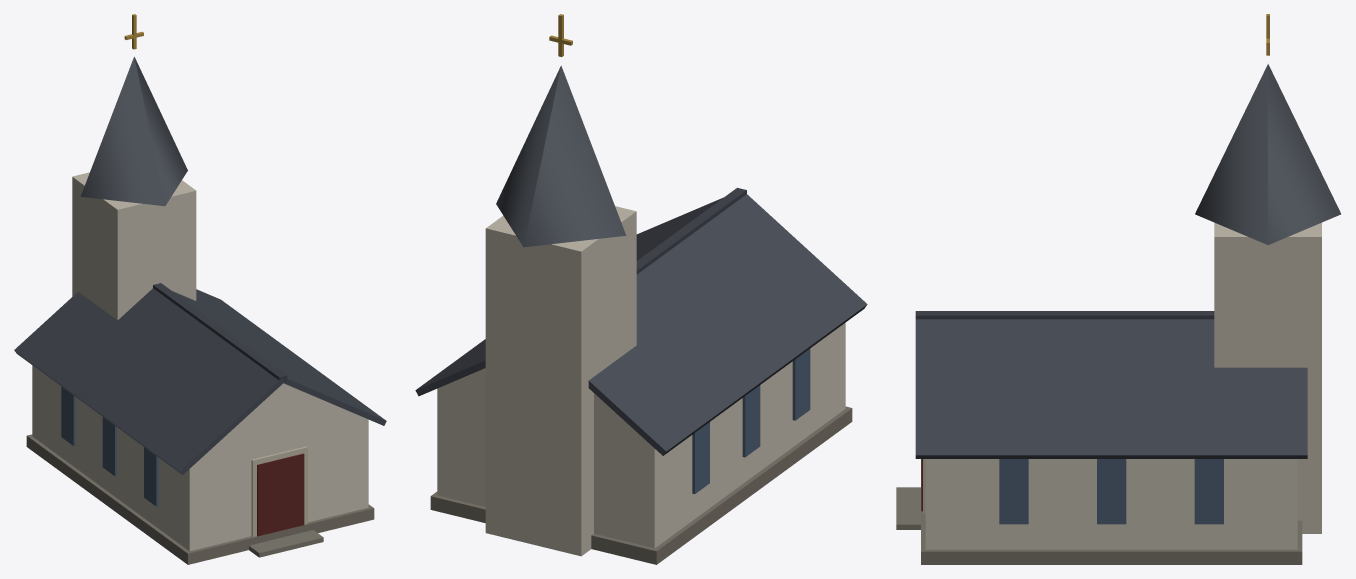
Rendered from procedural_monastery@5.glb.
The picture shows the model from 3 angles, left to right: view 1: azimuth 30°, elevation 25°; view 2: azimuth 150°, elevation 25°; view 3: azimuth 270°, elevation 25°; orthographic projection. The views are drawn at different scales.
Parts seen in each view (by area): view 1: part_0; view 2: part_0; view 3: part_0.
Part boxes in pixels (bbox=[...]): part_0: bbox=[14, 14, 386, 564]; part_0: bbox=[415, 14, 867, 564]; part_0: bbox=[896, 14, 1340, 564].
Size of the model in its own units: 5.78 by 11.2 by 9.1.
